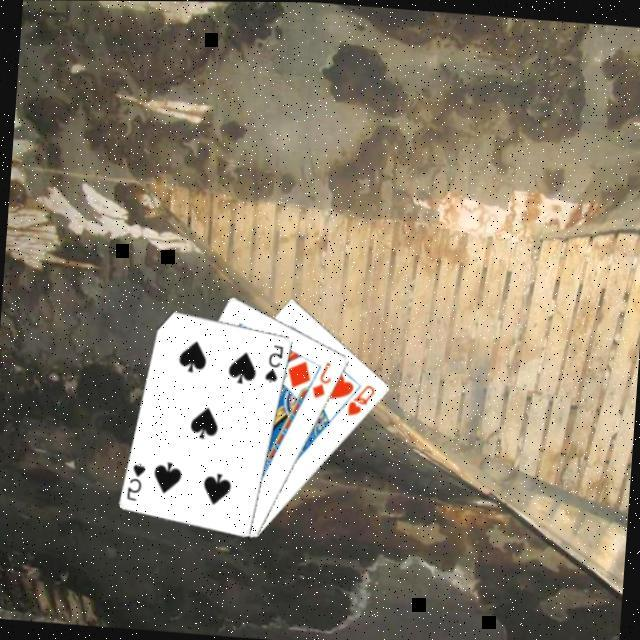5S: (124, 456, 149, 502), (262, 338, 287, 383)
JD: (309, 354, 336, 400)
QH: (344, 378, 380, 418)
